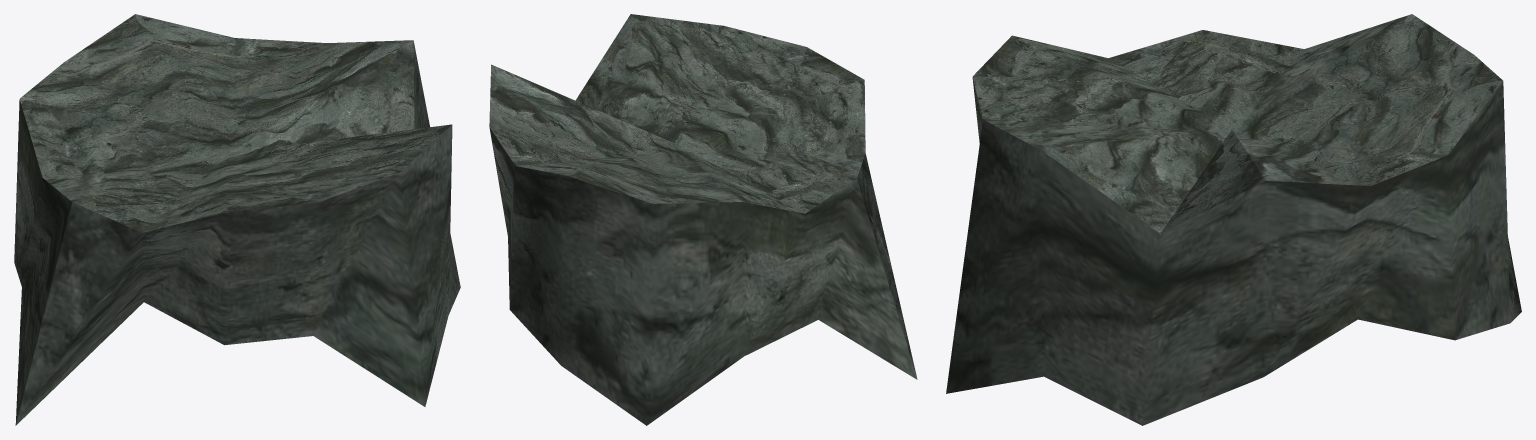
File: rocks_9.glb
The picture shows the model from 3 angles, left to right: view 1: azimuth 30°, elevation 25°; view 2: azimuth 150°, elevation 25°; view 3: azimuth 270°, elevation 25°; orthographic projection. The views are drawn at different scales.
Visible parts, largest first — view 1: 9-512 (×2); view 2: 9-512 (×2); view 3: 9-512 (×2).
Boxes of the visible parts, left/top/right/bottom form: 9-512 (×2): left=14, top=14, right=460, bottom=425; 9-512 (×2): left=489, top=14, right=917, bottom=425; 9-512 (×2): left=946, top=14, right=1521, bottom=425.
Size of the model in its own units: 11.54 by 6.65 by 11.27.
1 material, 1 textured.
